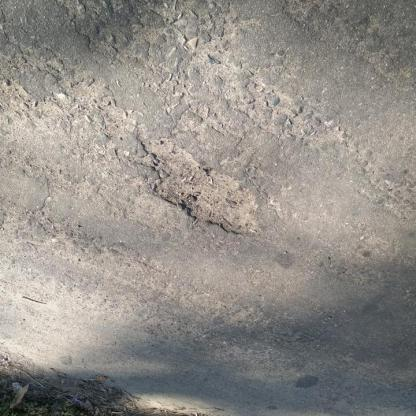pothole: (137, 139, 264, 240)
